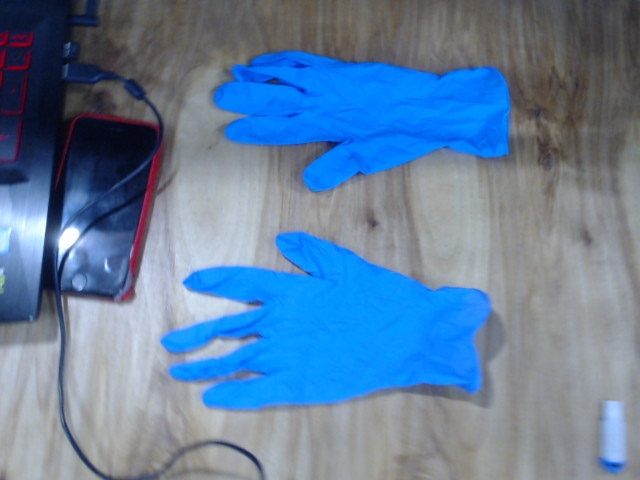medical_glove: (161, 233, 490, 408), (214, 51, 509, 192)
